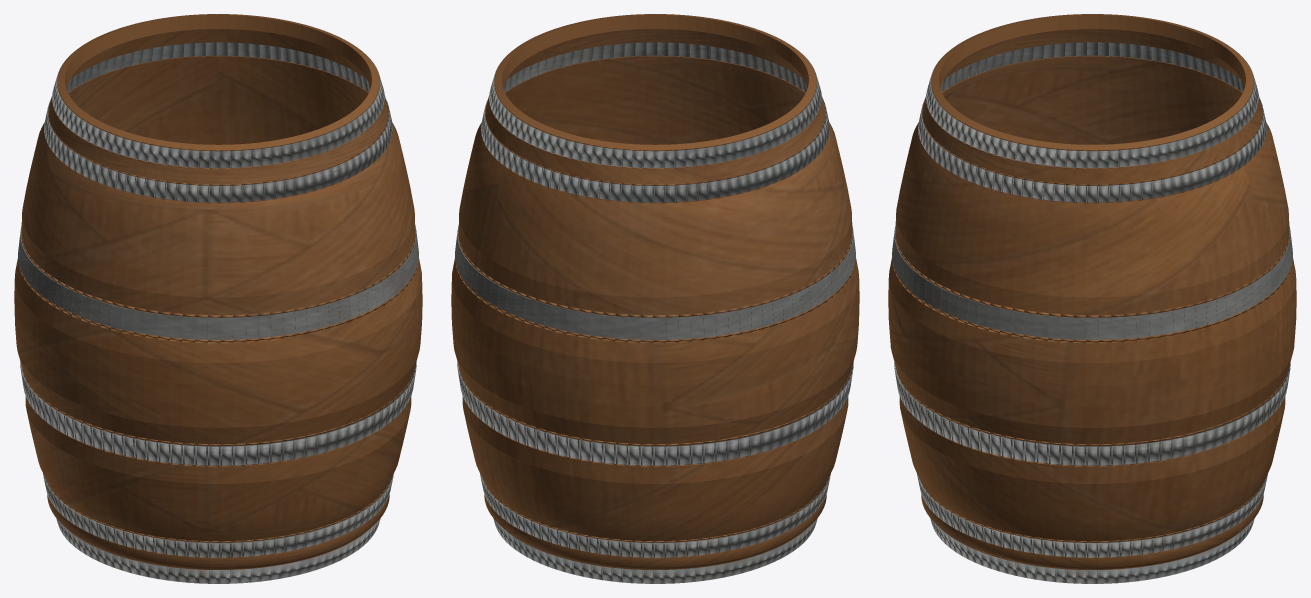
The model's file is barrel.glb.
3 renders of one model, left to right at view 1: azimuth 30°, elevation 25°; view 2: azimuth 150°, elevation 25°; view 3: azimuth 270°, elevation 25°, orthographic.
Visible parts, largest first — view 1: Cylinder_Cylinder.002 (×2); view 2: Cylinder_Cylinder.002 (×2); view 3: Cylinder_Cylinder.002 (×2).
Part boxes in pixels (x1=…): Cylinder_Cylinder.002 (×2): x1=14, y1=14, x2=422, y2=583; Cylinder_Cylinder.002 (×2): x1=451, y1=14, x2=859, y2=583; Cylinder_Cylinder.002 (×2): x1=888, y1=14, x2=1296, y2=583.
Bounding box in the file's own units: 9.36 × 11.03 × 9.36.
Materials: 2 (2 with a texture image).
